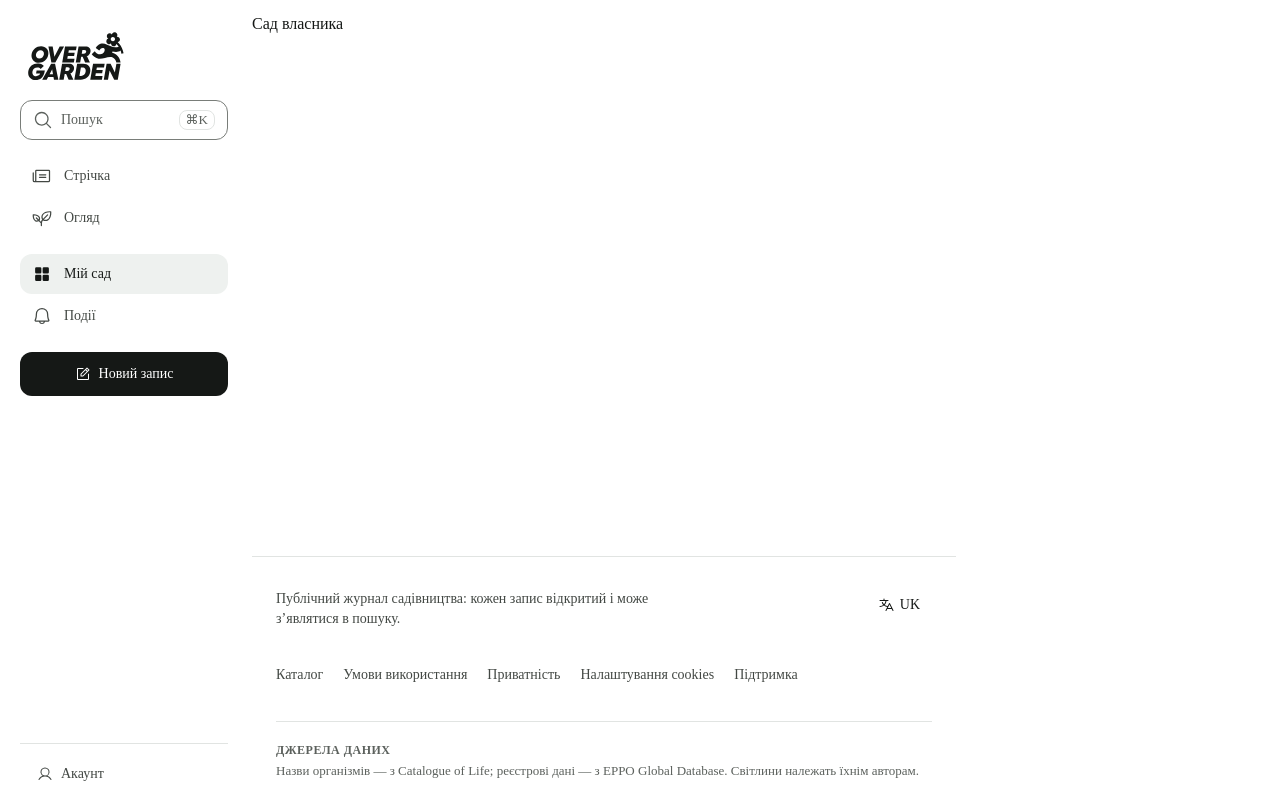
the sealed owner's links › reaches the account menu and nowhere else in the rail
The width and height of the screenshot is (1280, 812).
Click the button "Акаунт". click: [124, 774]
box: [20,752,228,796]
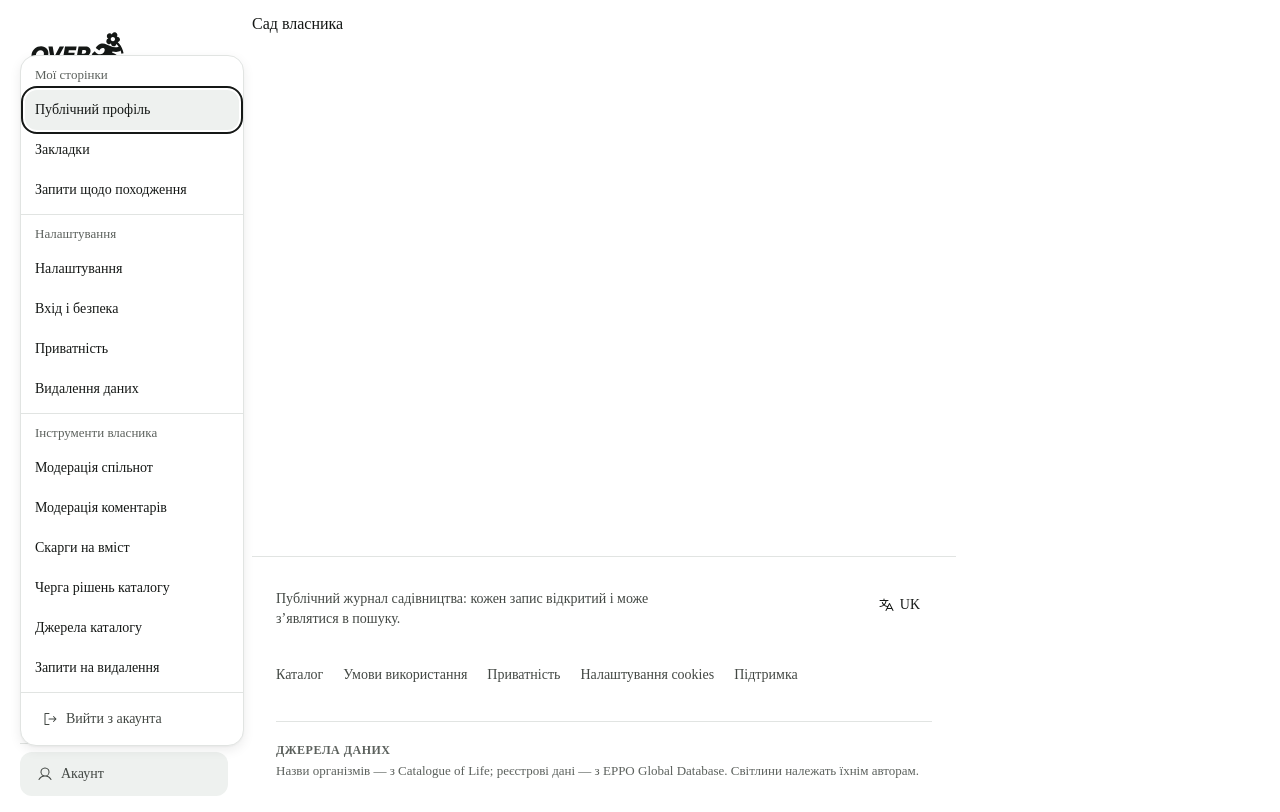
Result: the button "Вийти з акаунта" is shown at [25,697,239,741]
